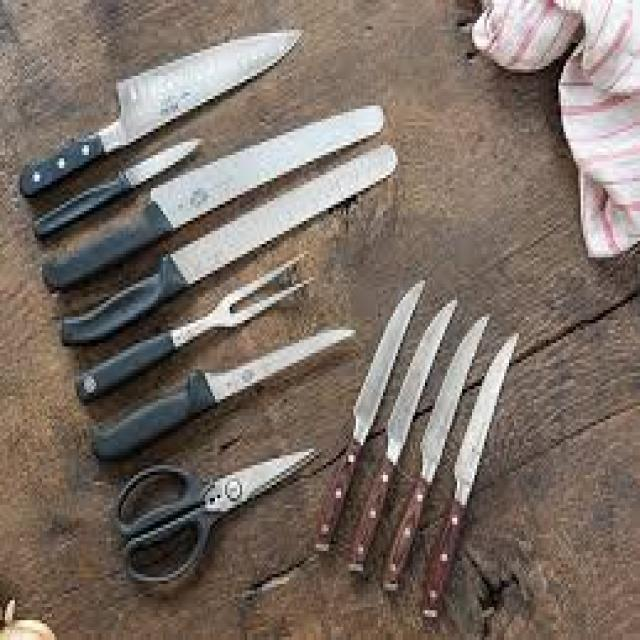knife: (60, 144, 399, 342), (38, 105, 386, 288), (18, 30, 305, 194), (88, 329, 358, 462), (308, 280, 425, 554), (381, 314, 492, 591), (347, 301, 457, 569), (420, 335, 519, 620)
